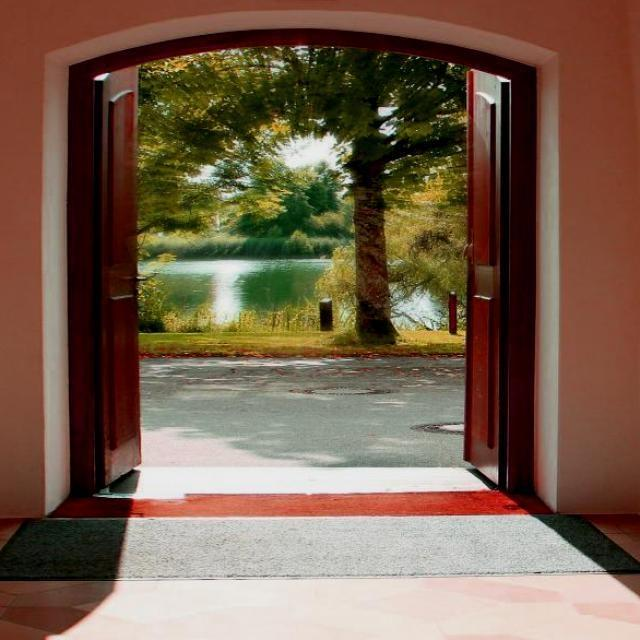door: (85, 59, 146, 488), (454, 64, 512, 493)
